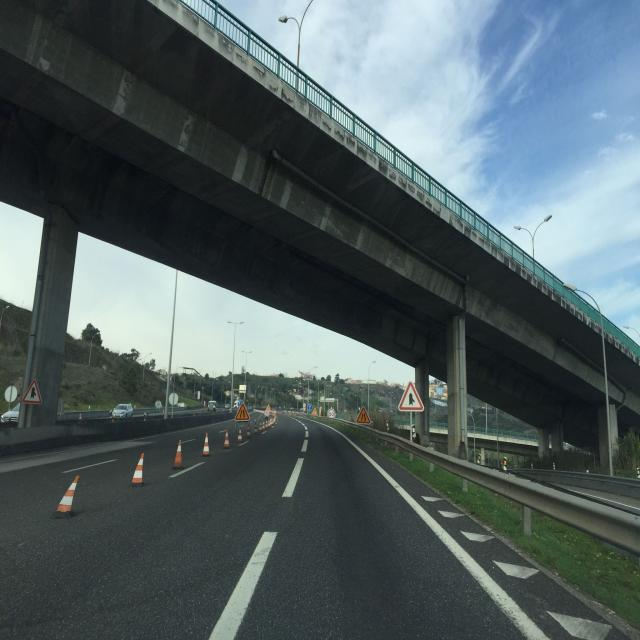car: (109, 402, 134, 418), (55, 411, 83, 422), (129, 408, 150, 419)
